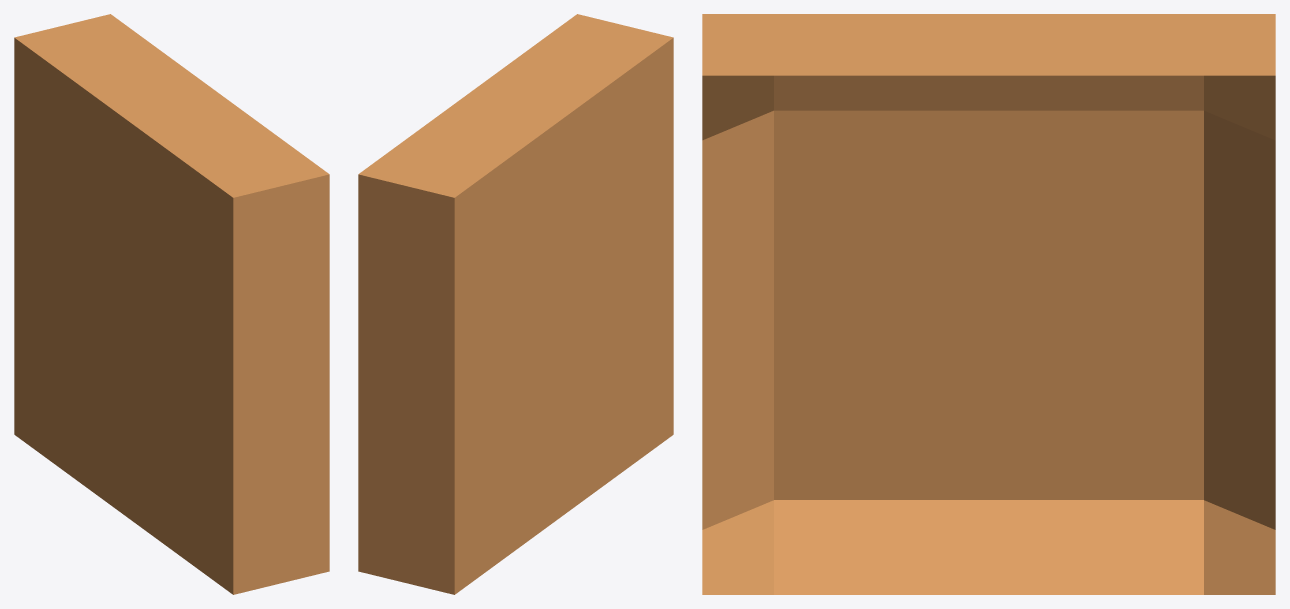
File: maori pattern frame.fbx
3 renders of one model, left to right at view 1: azimuth 30°, elevation 25°; view 2: azimuth 150°, elevation 25°; view 3: azimuth 270°, elevation 25°, orthographic. The views are drawn at different scales.
Visible parts, largest first — view 1: Cube; view 2: Cube; view 3: Cube.
Part boxes in pixels (x1=…): Cube: x1=14, y1=14, x2=329, y2=594; Cube: x1=358, y1=14, x2=673, y2=594; Cube: x1=702, y1=14, x2=1275, y2=594.
Size of the model in its own units: 50.82 by 200 by 200.
